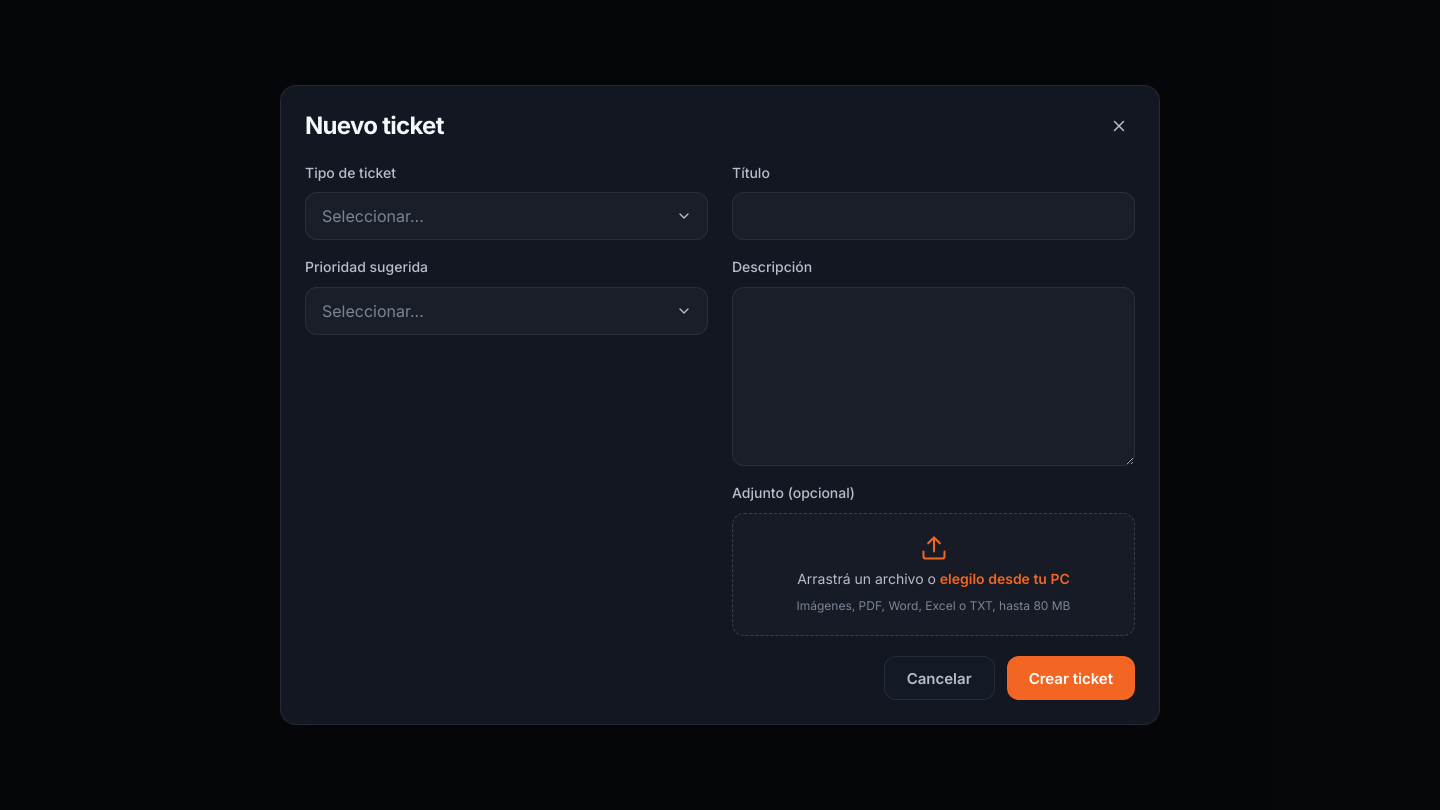
Scenario: ModalNuevoTicket › ofrece los tipos activos en orden alfabético
Click the dropdown labelled "Tipo de ticket".
click(506, 216)  # box [305,192,708,240]
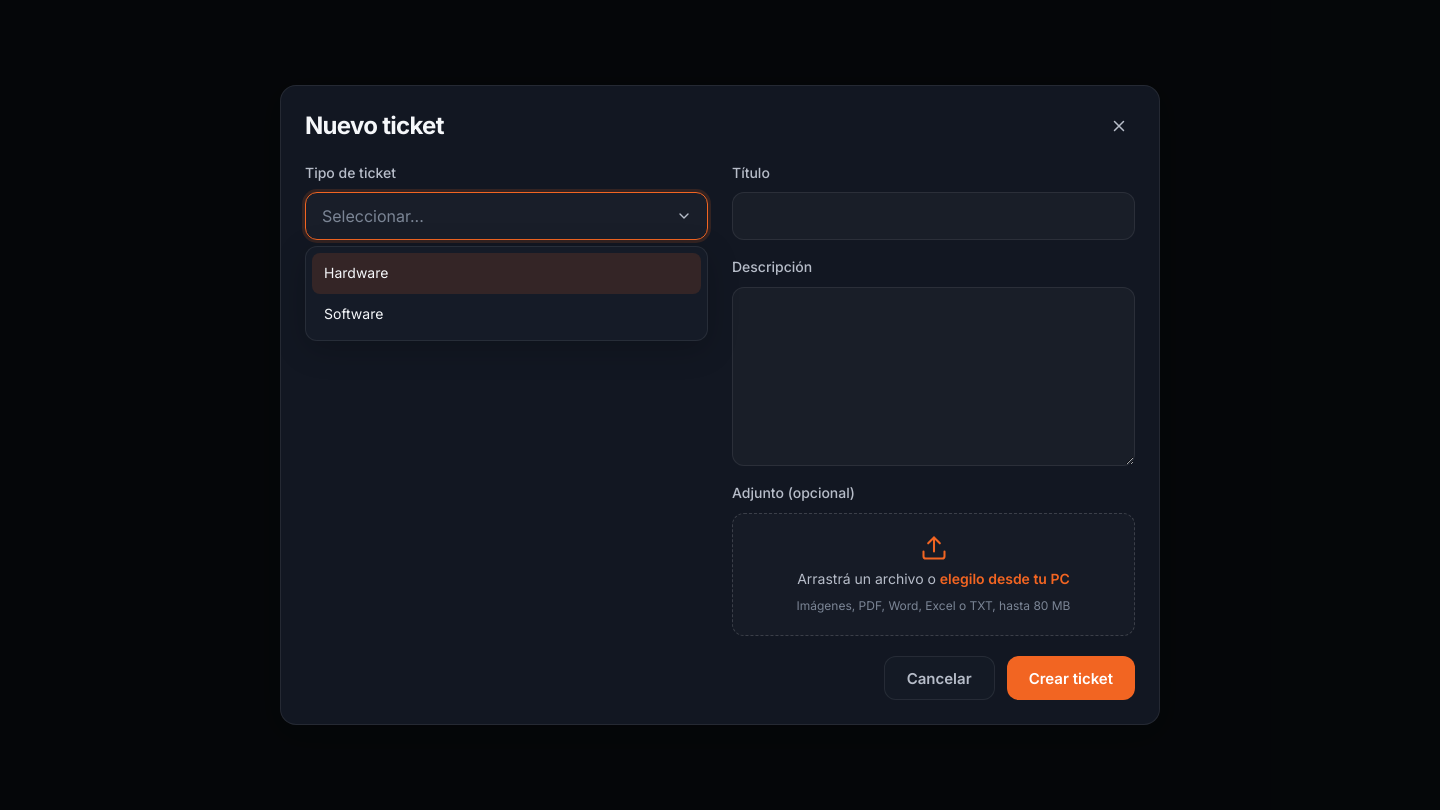
Now the number of options is 2, box [312,253,701,294]; [324,305,383,322]
Now the options read "Hardware", "Software", in this order, box [312,253,701,294]; [324,305,383,322]
